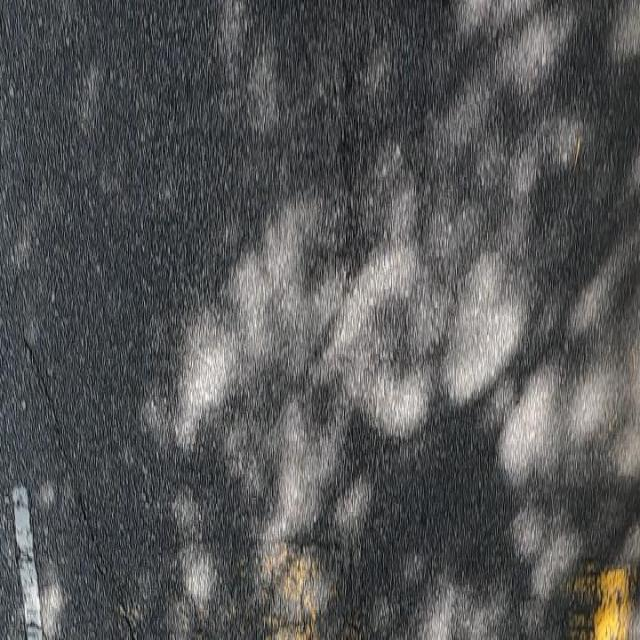cracks: (17, 316, 168, 640), (210, 523, 388, 640)
